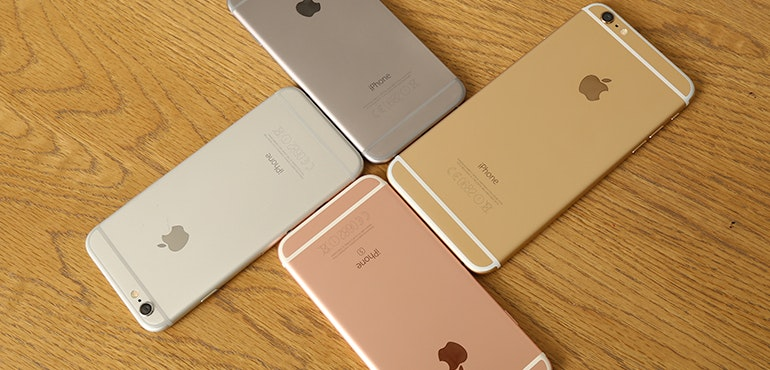apple: (570, 56, 616, 110), (427, 330, 481, 370), (154, 210, 192, 262), (289, 2, 339, 24)
